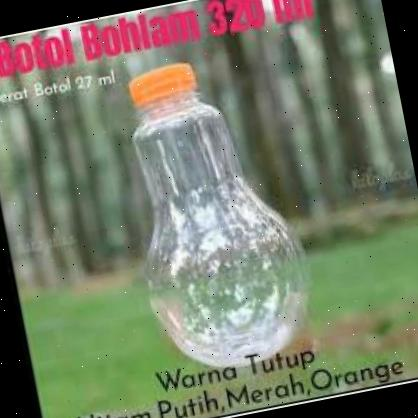bottle: (94, 35, 360, 406)
cap: (124, 59, 204, 109)
